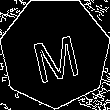M_N: (27, 22, 83, 82)
